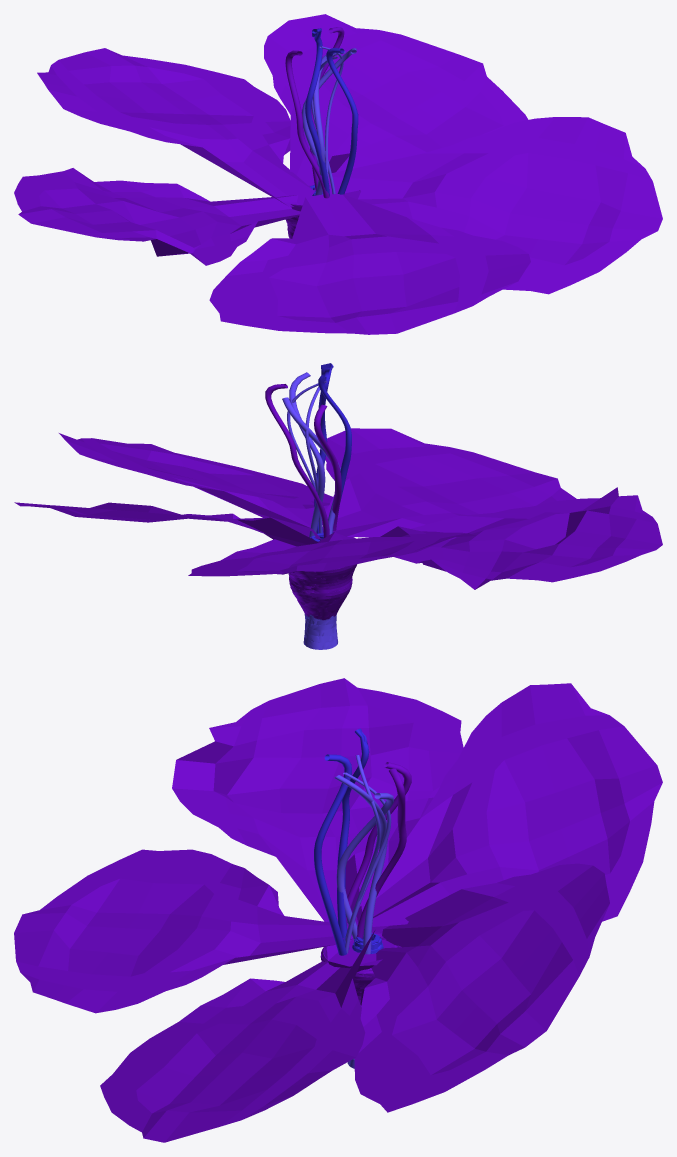
Rendered from quaresmeira 009 cor_01.glb.
3 views of the same model, one above another, from view 1: azimuth 30°, elevation 25°; view 2: azimuth 150°, elevation 25°; view 3: azimuth 270°, elevation 25° (orthographic). The views are drawn at different scales.
Parts seen in each view (by area): view 1: quaremeira; view 2: quaremeira; view 3: quaremeira.
Part boxes in pixels (x1,y1,x2,y2): quaremeira: (14,14,662,334); quaremeira: (14,363,662,649); quaremeira: (14,678,662,1142).
Bounding box in the file's own units: 2.75 × 1.19 × 2.1.
